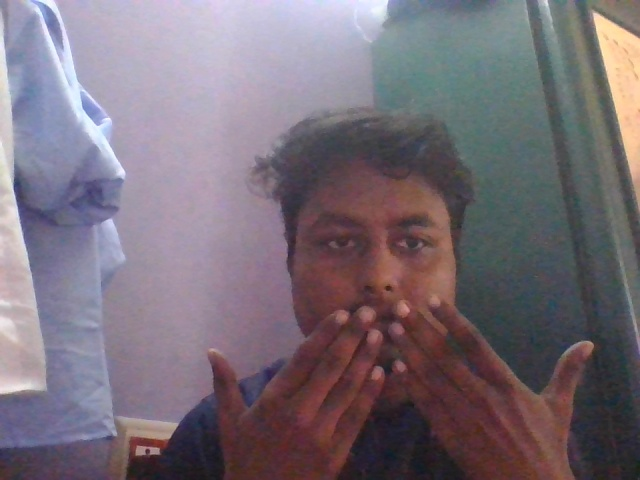thankyou: (202, 262, 603, 480)
